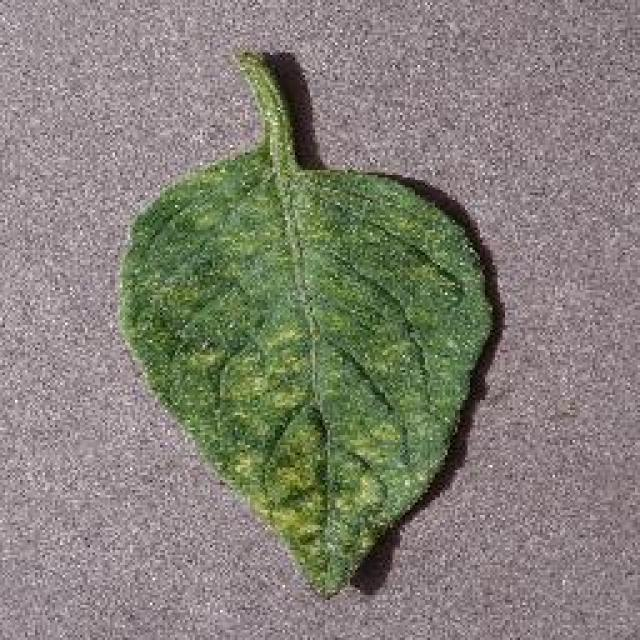Tomato___Spider_mites Two-spotted_spider_mite: (120, 52, 495, 592)
